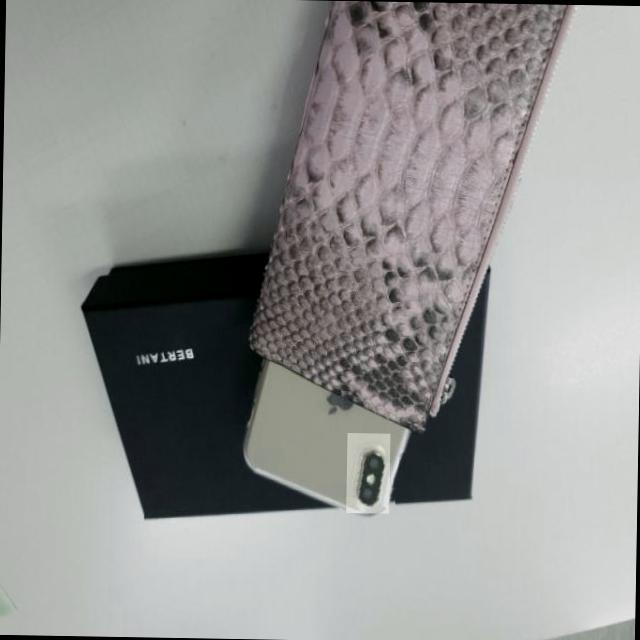phone: (235, 350, 408, 518)
